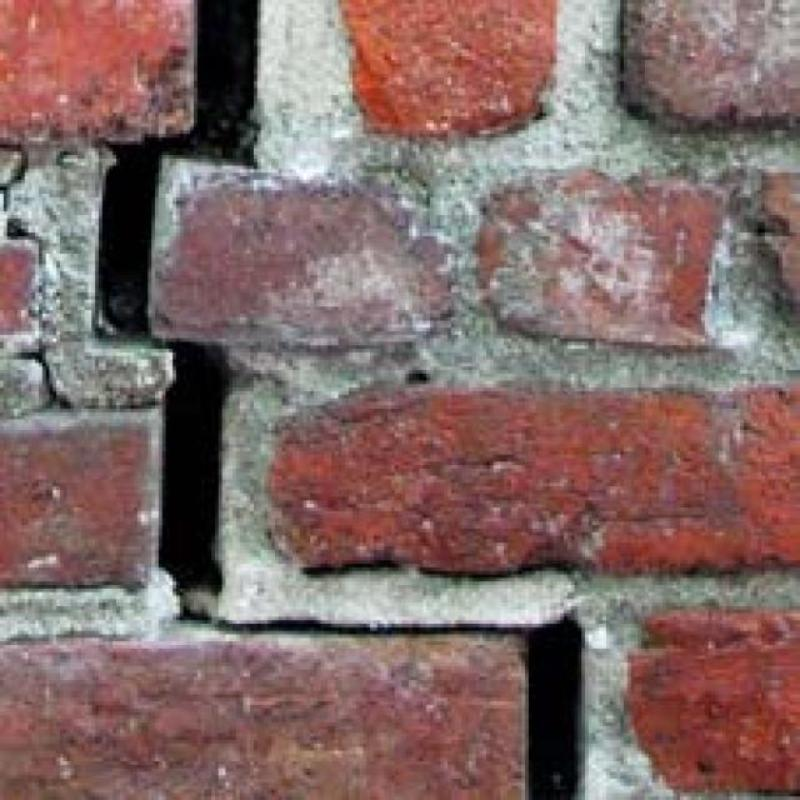crack: (225, 616, 583, 799), (100, 0, 257, 338), (150, 338, 225, 615), (0, 140, 49, 265), (14, 340, 74, 415)
